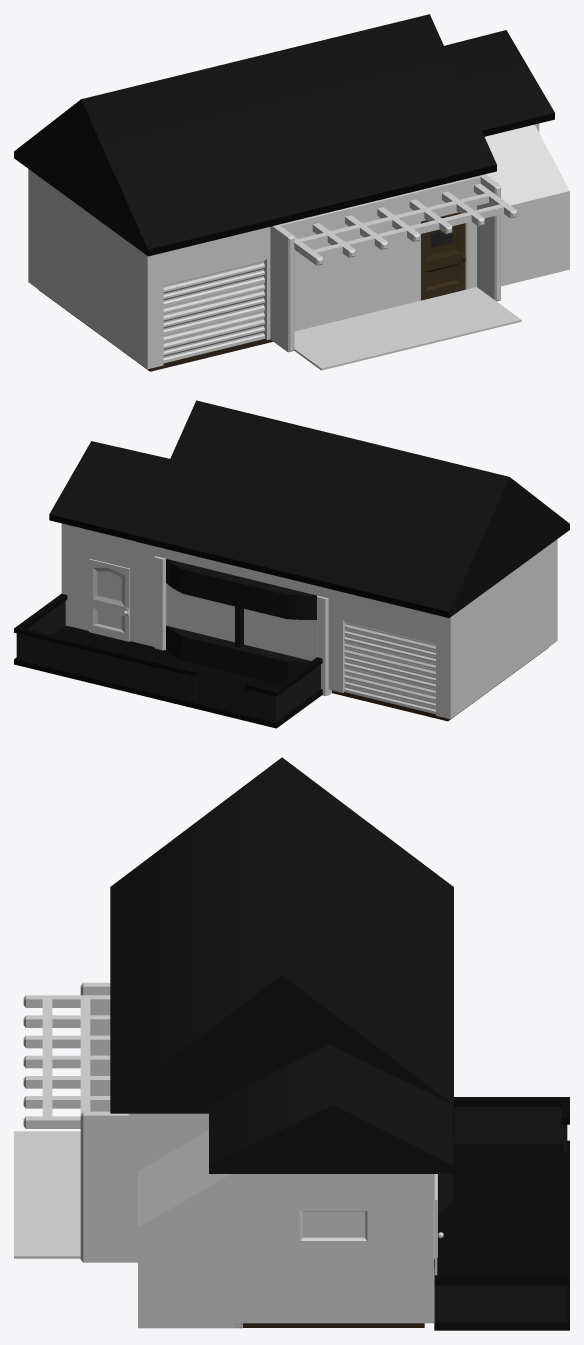
File: House_Standin.fbx
The picture shows the model from 3 angles, top to bottom: view 1: azimuth 30°, elevation 25°; view 2: azimuth 150°, elevation 25°; view 3: azimuth 270°, elevation 25°; orthographic projection. The views are drawn at different scales.
Visible parts, largest first — view 1: Roof, pasted__pCube4, pCube62, pCube44, pCube21; view 2: Roof, pasted__pCube4, pCube63, pCube43, pCube28, pasted__pCube23; view 3: Roof, pasted__pCube4, pCube63, pCube62, pCube29.
Part boxes in pixels (<box>): Roof: <box>14,14,554,267</box>; pasted__pCube4: <box>28,124,569,371</box>; pCube62: <box>270,174,521,370</box>; pCube44: <box>163,260,264,363</box>; pCube21: <box>421,212,465,300</box>; Roof: <box>49,400,569,627</box>; pasted__pCube4: <box>61,533,557,721</box>; pCube63: <box>14,593,322,728</box>; pCube43: <box>344,621,435,714</box>; pCube28: <box>166,583,316,660</box>; pasted__pCube23: <box>89,559,129,641</box>; Roof: <box>110,757,453,1193</box>; pasted__pCube4: <box>128,1114,453,1328</box>; pCube63: <box>434,1097,569,1330</box>; pCube62: <box>14,982,128,1262</box>; pCube29: <box>302,1211,365,1237</box>.
Size of the model in its own units: 6.9 by 3.47 by 5.82.
